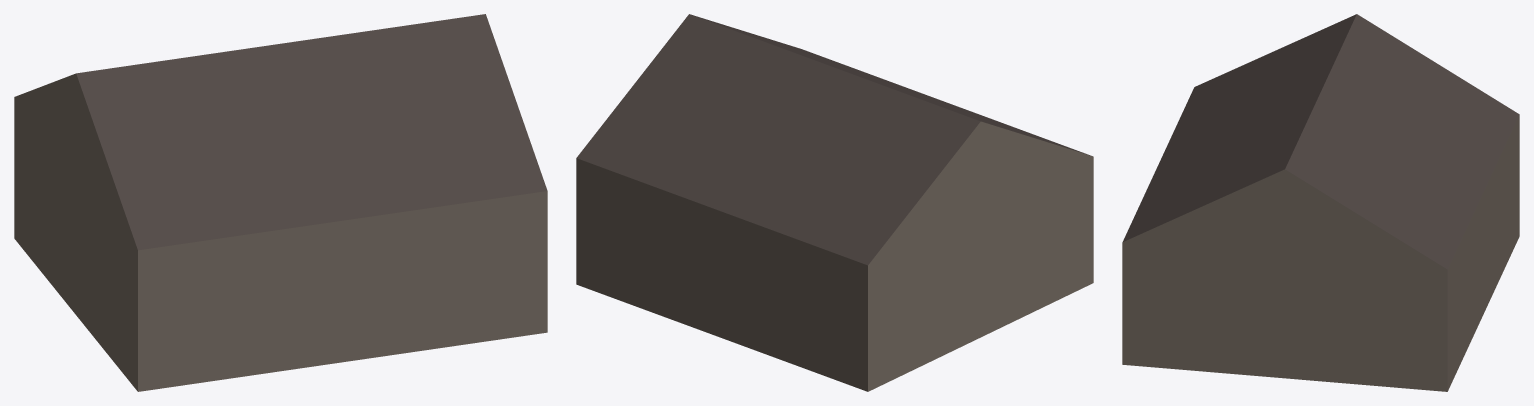
3 renders of one model, left to right at view 1: azimuth 30°, elevation 25°; view 2: azimuth 150°, elevation 25°; view 3: azimuth 270°, elevation 25°, orthographic. The views are drawn at different scales.
Visible parts, largest first — view 1: HP-w859082525; view 2: HP-w859082525; view 3: HP-w859082525.
Part boxes in pixels (x1,y1,x2,y2): HP-w859082525: (14, 14, 547, 391); HP-w859082525: (576, 14, 1093, 391); HP-w859082525: (1122, 14, 1519, 391).
Bounding box in the file's own units: 19.18 × 10.25 × 17.64.
